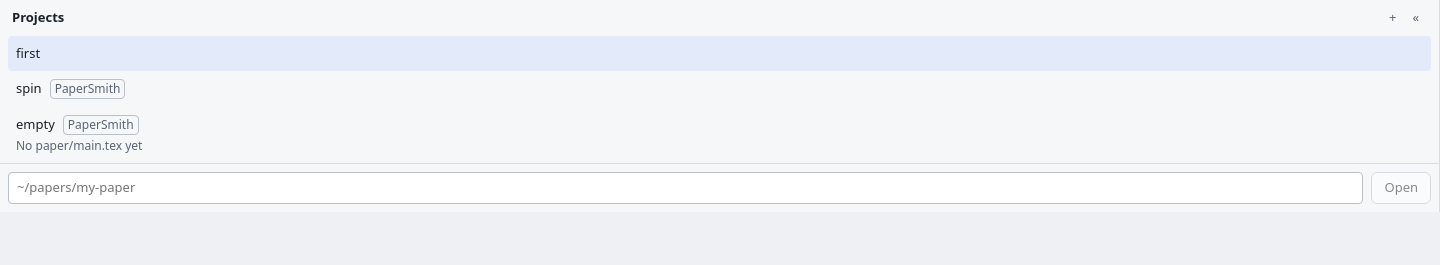
it: ProjectRail › shows why a project could not be opened
Click the button "spin PaperSmith" at x=88, y=89, box [8,71,1431,107]
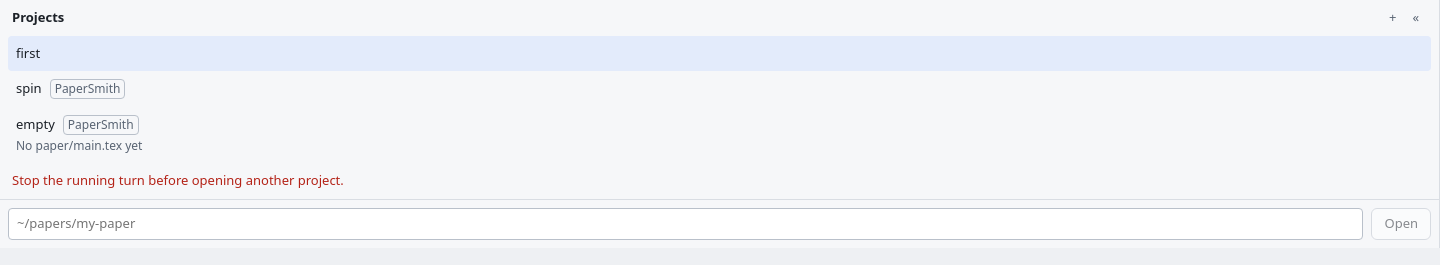
expect the message shows "Stop the running turn": met, box [12,171,344,189]
